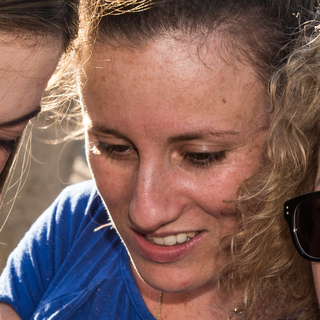eye: (171, 141, 232, 171), (93, 130, 135, 163)
